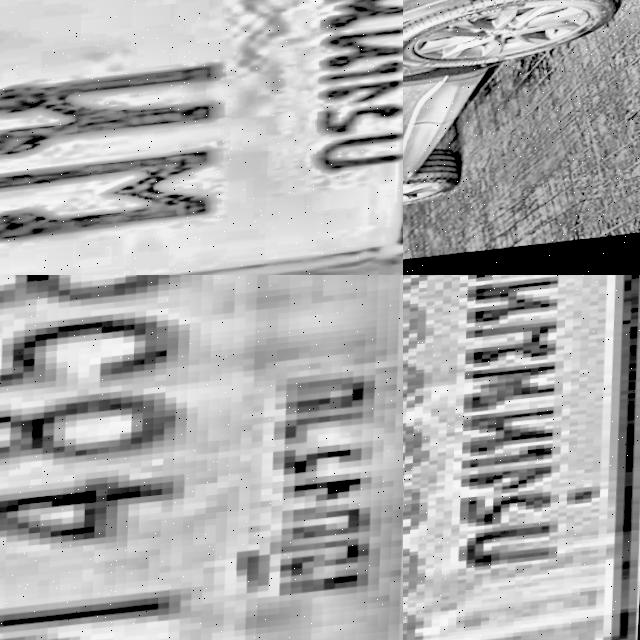license-plate: (0, 275, 403, 640), (0, 0, 403, 275), (403, 275, 640, 640)
